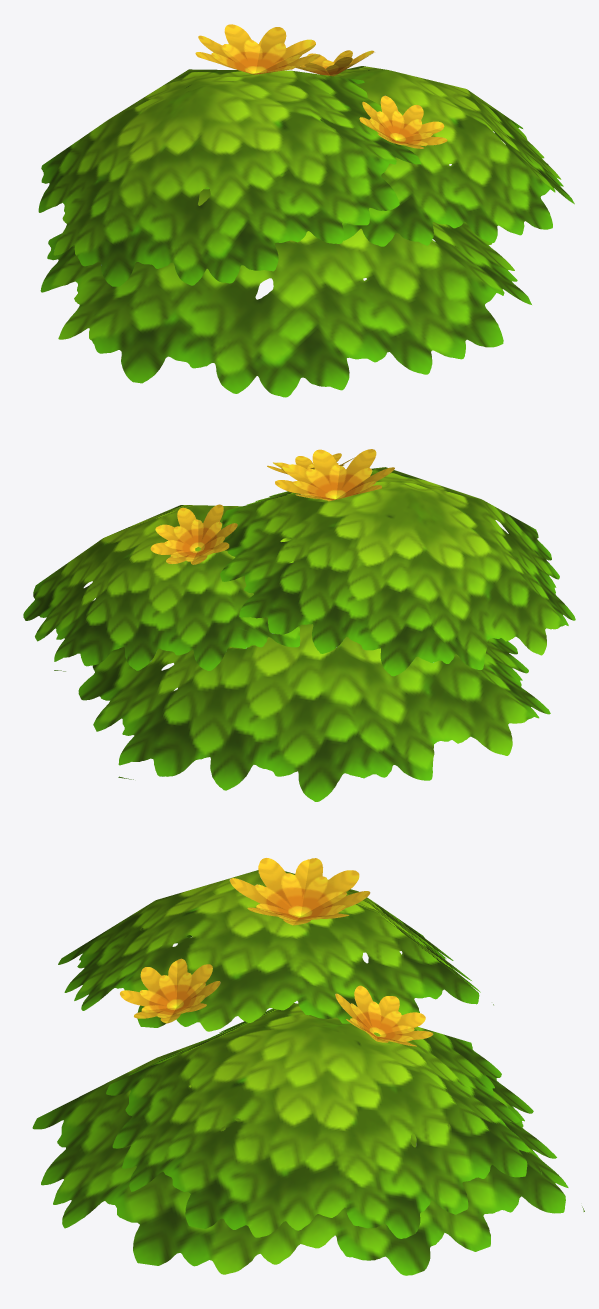
The model's file is Bush_07b.FBX.
The picture shows the model from 3 angles, top to bottom: view 1: azimuth 30°, elevation 25°; view 2: azimuth 150°, elevation 25°; view 3: azimuth 270°, elevation 25°; orthographic projection. The views are drawn at different scales.
Parts seen in each view (by area): view 1: Bush_07b; view 2: Bush_07b; view 3: Bush_07b.
Boxes of the visible parts, x1,y1,x2,y2 form: Bush_07b: (38,24,574,397); Bush_07b: (23,449,575,801); Bush_07b: (32,858,584,1275).
Size of the model in its own units: 1.29 by 0.5954 by 1.09.
